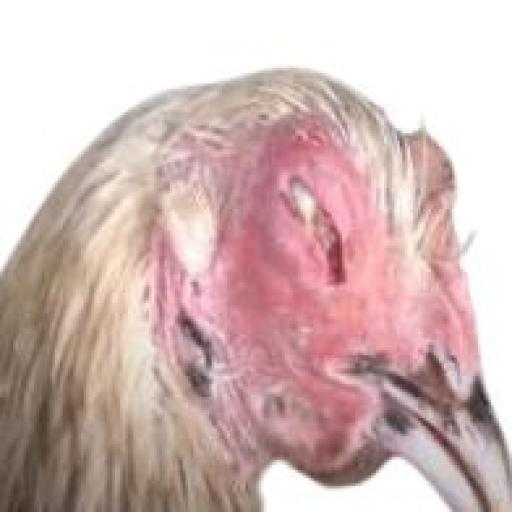disease: (251, 110, 376, 302), (361, 317, 477, 399), (254, 370, 354, 456), (156, 290, 230, 388)
